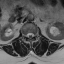CCS_normal: (29, 30, 31, 40)
LFS_normal: (34, 30, 36, 38)
LLS_normal: (31, 30, 34, 39)
RFS_normal: (24, 31, 26, 38)
RLS_normal: (26, 31, 29, 39)
